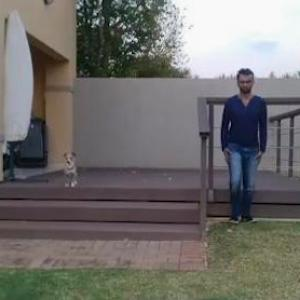follow: (219, 60, 268, 236)
